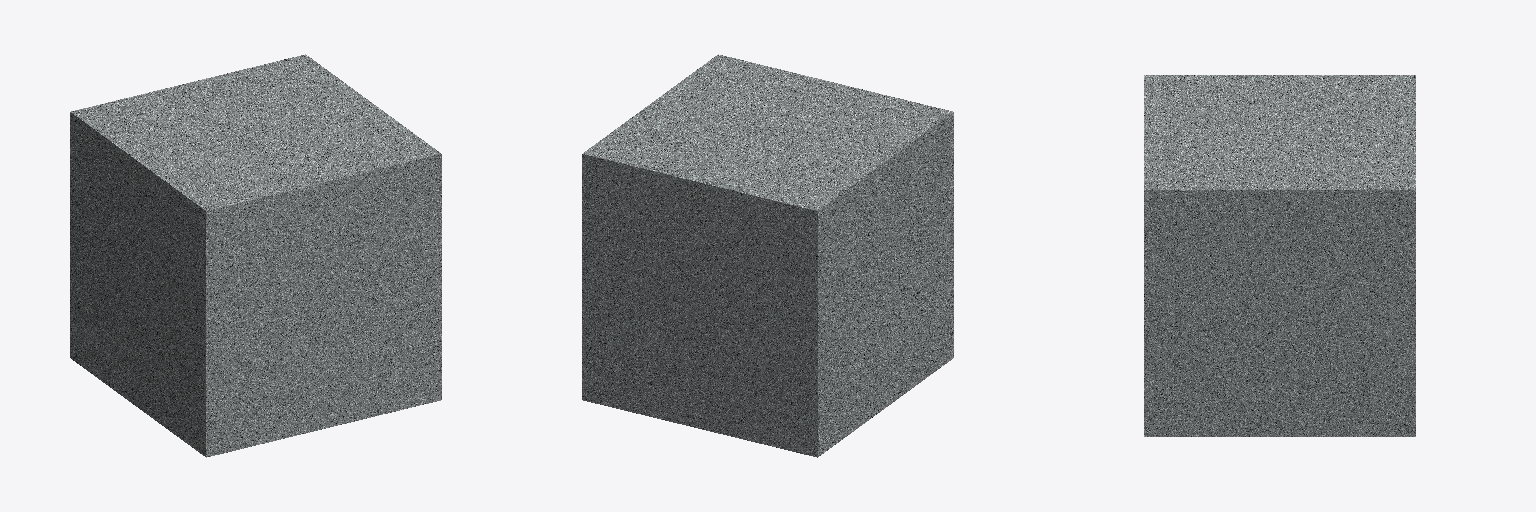
The picture shows the model from 3 angles: view 1: azimuth 30°, elevation 25°; view 2: azimuth 150°, elevation 25°; view 3: azimuth 270°, elevation 25°; orthographic projection.
Parts seen in each view (by area): view 1: Cube; view 2: Cube; view 3: Cube.
Boxes of the visible parts, x1=… form: Cube: x1=70, y1=54, x2=441, y2=457; Cube: x1=582, y1=54, x2=953, y2=457; Cube: x1=1144, y1=75, x2=1415, y2=436.
Size of the model in its own units: 1 by 1 by 1.
Materials: 1 (1 with a texture image).